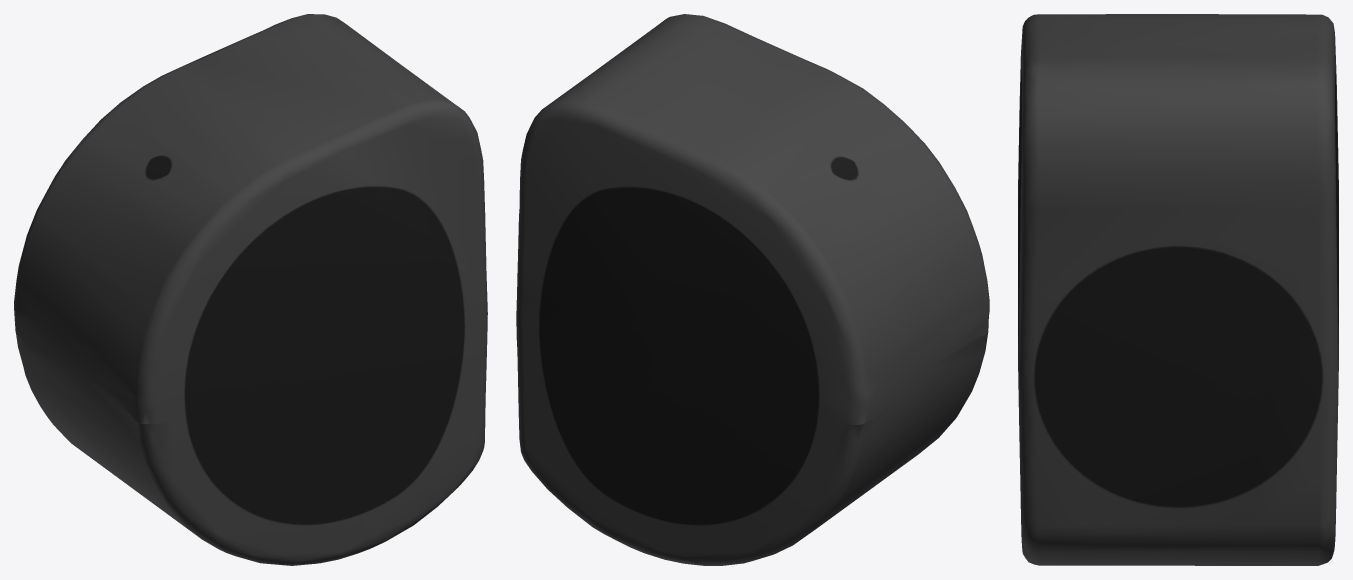
File: wrist_flex.obj
The picture shows the model from 3 angles, left to right: view 1: azimuth 30°, elevation 25°; view 2: azimuth 150°, elevation 25°; view 3: azimuth 270°, elevation 25°; orthographic projection. The views are drawn at different scales.
Visible parts, largest first — view 1: SM_wrist_flex_M; view 2: SM_wrist_flex_M; view 3: SM_wrist_flex_M.
Boxes of the visible parts, <box> form: SM_wrist_flex_M: <box>14,14,487,565</box>; SM_wrist_flex_M: <box>516,14,989,565</box>; SM_wrist_flex_M: <box>1018,14,1338,565</box>.
Size of the model in its own units: 0.0657 by 0.0782 by 0.0434.
1 material, 1 textured.
